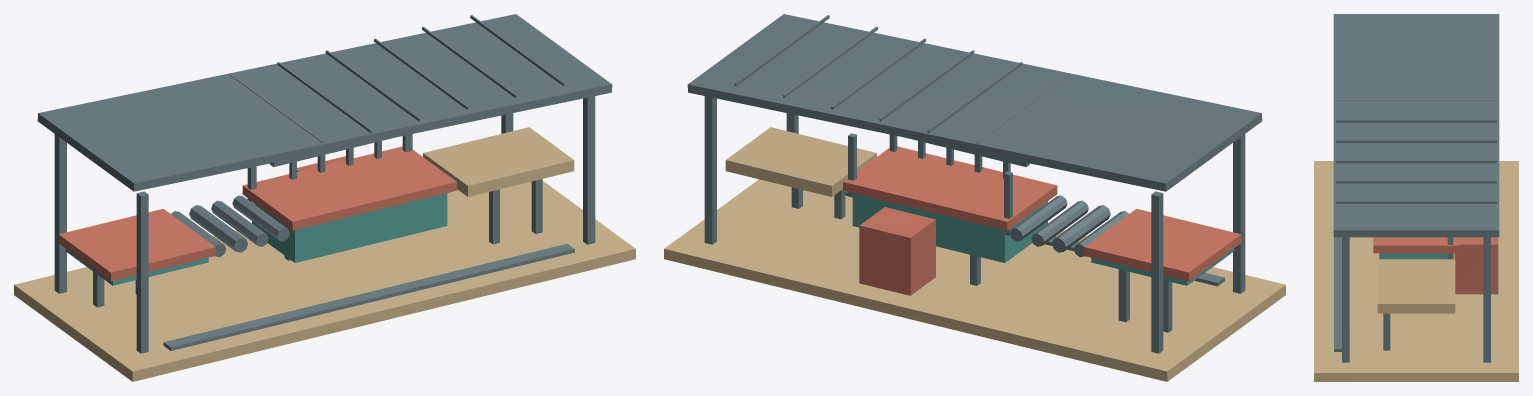
Rendered from Washing-Station.glb.
3 renders of one model, left to right at view 1: azimuth 30°, elevation 25°; view 2: azimuth 150°, elevation 25°; view 3: azimuth 270°, elevation 25°, orthographic. The views are drawn at different scales.
Parts seen in each view (by area): view 1: washing-station-static-washing-station-pale-concrete-mat, washing-station-static-washing-station-sage-galvanized-mat, washing-station-static-washing-station-dark-frame-iron-mat, washing-station-static-washing-station-weathered-timber-mat, washing-station-static-washing-station-blue-grey-wash-mat; view 2: washing-station-static-washing-station-pale-concrete-mat, washing-station-static-washing-station-sage-galvanized-mat, washing-station-static-washing-station-weathered-timber-mat, washing-station-static-washing-station-dark-frame-iron-mat, washing-station-static-washing-station-blue-grey-wash-mat; view 3: washing-station-static-washing-station-sage-galvanized-mat, washing-station-static-washing-station-pale-concrete-mat, washing-station-static-washing-station-dark-frame-iron-mat, washing-station-static-washing-station-weathered-timber-mat, washing-station-static-washing-station-blue-grey-wash-mat.
Boxes of the visible parts, x1,y1,x2,y2 form: washing-station-static-washing-station-pale-concrete-mat: [14, 127, 635, 381]; washing-station-static-washing-station-sage-galvanized-mat: [37, 14, 612, 191]; washing-station-static-washing-station-dark-frame-iron-mat: [54, 15, 595, 353]; washing-station-static-washing-station-weathered-timber-mat: [58, 146, 456, 281]; washing-station-static-washing-station-blue-grey-wash-mat: [65, 193, 447, 285]; washing-station-static-washing-station-pale-concrete-mat: [664, 127, 1285, 381]; washing-station-static-washing-station-sage-galvanized-mat: [687, 14, 1262, 191]; washing-station-static-washing-station-weathered-timber-mat: [843, 146, 1241, 295]; washing-station-static-washing-station-dark-frame-iron-mat: [704, 15, 1245, 353]; washing-station-static-washing-station-blue-grey-wash-mat: [852, 193, 1234, 285]; washing-station-static-washing-station-sage-galvanized-mat: [1333, 14, 1499, 237]; washing-station-static-washing-station-pale-concrete-mat: [1314, 161, 1518, 381]; washing-station-static-washing-station-dark-frame-iron-mat: [1334, 99, 1496, 362]; washing-station-static-washing-station-weathered-timber-mat: [1373, 237, 1498, 294]; washing-station-static-washing-station-blue-grey-wash-mat: [1379, 253, 1453, 259].
Bounding box in the file's own units: 7.1 × 2.52 × 2.9.
